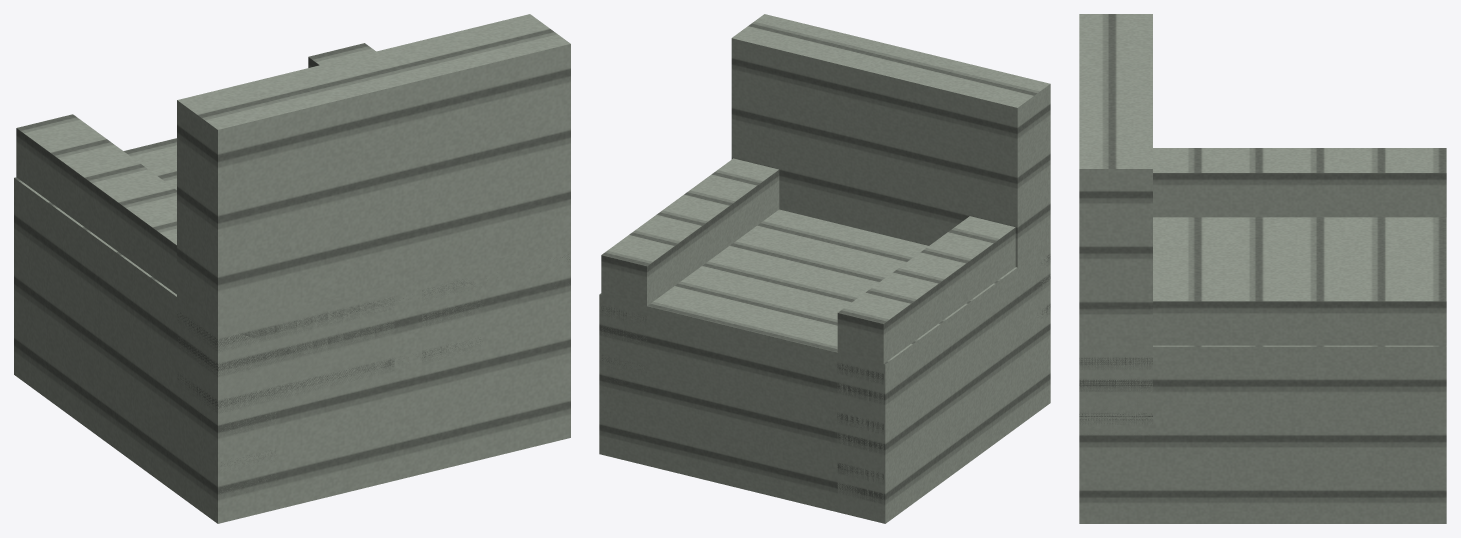
File: armchair.glb
3 renders of one model, left to right at view 1: azimuth 30°, elevation 25°; view 2: azimuth 150°, elevation 25°; view 3: azimuth 270°, elevation 25°, orthographic. The views are drawn at different scales.
Parts seen in each view (by area): view 1: armchair-col; view 2: armchair-col; view 3: armchair-col.
Boxes of the visible parts, x1,y1,x2,y2 form: armchair-col: [14, 14, 570, 523]; armchair-col: [599, 14, 1050, 523]; armchair-col: [1079, 14, 1446, 523].
Bounding box in the file's own units: 0.75 × 0.8 × 0.75.
Materials: 1 (1 with a texture image).
